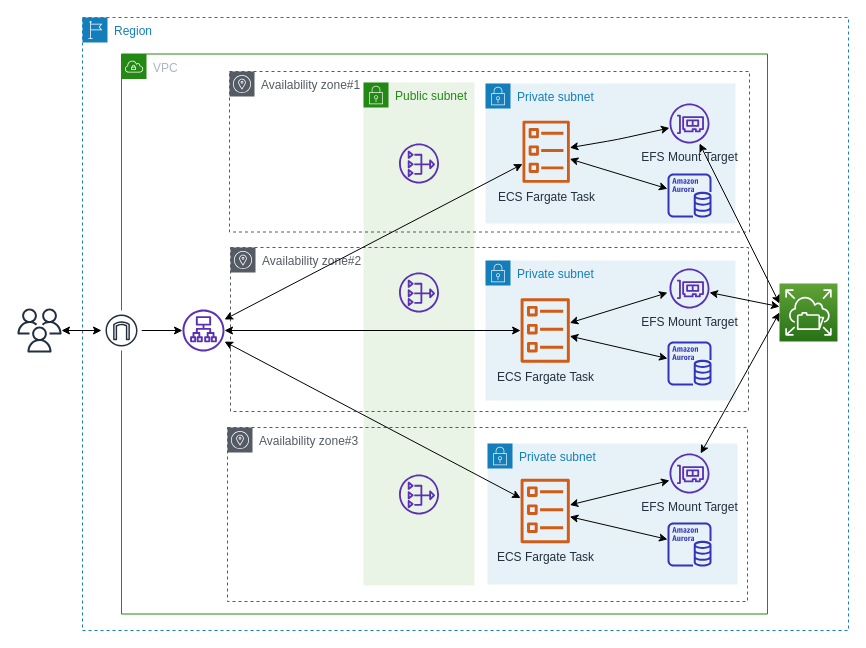
Some shapes in this 866 by 648 pixel diagram are drawn without their labels. Here are the shapes that lost their labels. From the top down, the centre of each, then its label:
At [121,330]: "Internet gateway".
At [203,330]: "ALB".
At [808,312]: "Amazon EFS".
